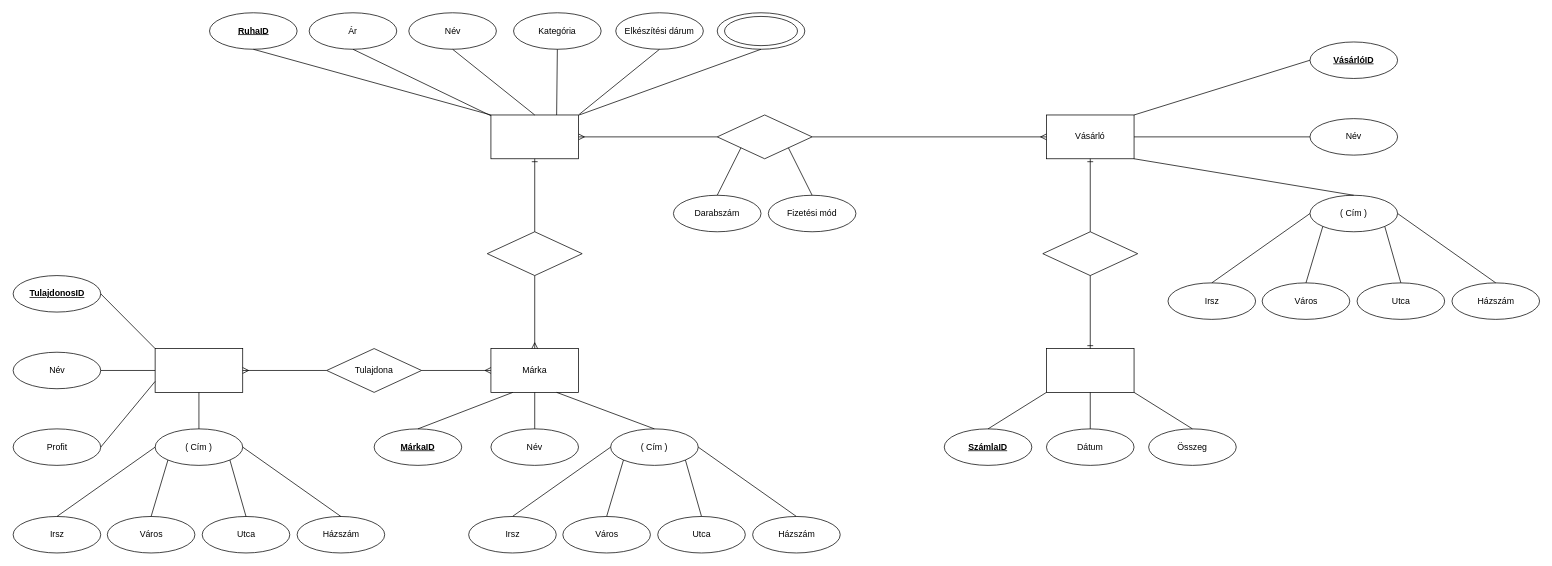
Image size: 1552x566. Some labels were removed from this diagram. The shapes that lost their labels are listed below. From the top down, each one's box as (x1, y1, x2, y2) in pixels, then its label:
(724, 16, 798, 46): Ajándék
(490, 114, 579, 159): Ruha
(716, 114, 812, 159): Vásárlás
(487, 231, 582, 276): Gyártás
(1042, 231, 1138, 276): Vásárlási számla
(154, 348, 243, 392): Tulajdonos
(1046, 348, 1134, 392): Számla
